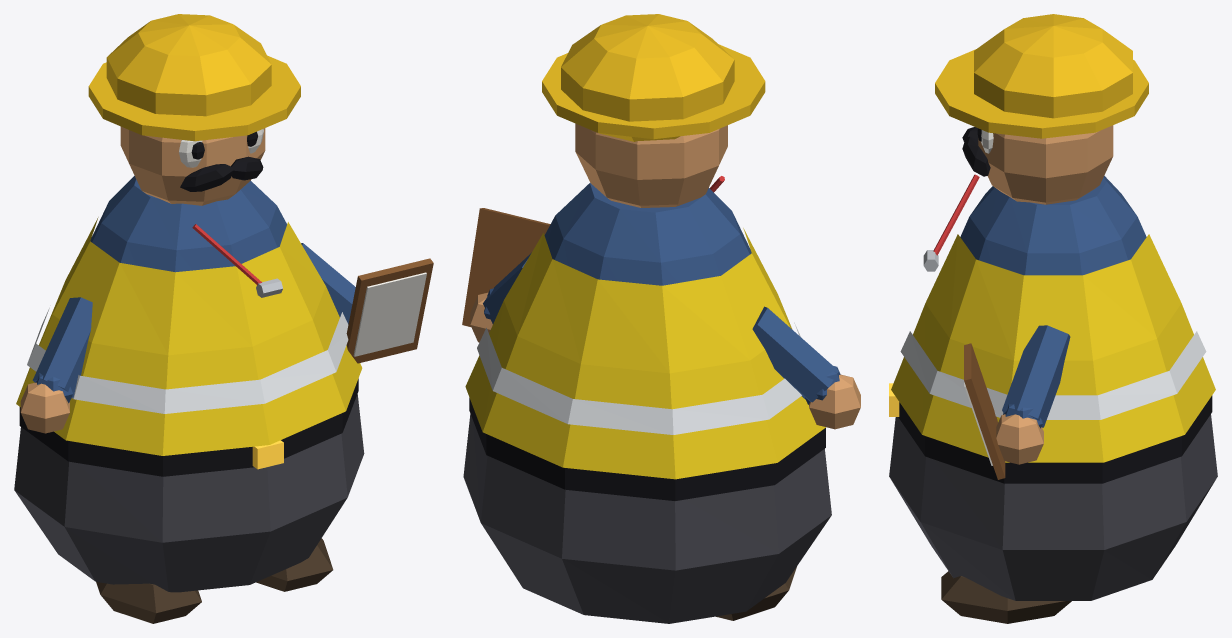
The model's file is npc_capataz.glb.
The picture shows the model from 3 angles, left to right: view 1: azimuth 30°, elevation 25°; view 2: azimuth 150°, elevation 25°; view 3: azimuth 270°, elevation 25°; orthographic projection. The views are drawn at different scales.
Parts seen in each view (by area): view 1: body_safety_vest, body_work_pants, cap_hard_hat, body_work_shirt, body_vest_stripe, body_black, head_skin_arena, arms_work_shirt, legs_work_boots, props_white, props_clipboard, arms_skin_arena (+3 smaller); view 2: body_safety_vest, body_work_pants, cap_hard_hat, body_work_shirt, head_skin_arena, body_vest_stripe, body_black, arms_work_shirt, props_clipboard, arms_skin_arena, legs_work_boots; view 3: body_safety_vest, body_work_pants, cap_hard_hat, body_work_shirt, head_skin_arena, body_vest_stripe, body_black, arms_work_shirt, legs_work_boots, props_clipboard, arms_skin_arena, face_black (+1 smaller).
Boxes of the visible parts, box(x1,y1,x2,y2) form: body_safety_vest: box(16, 217, 362, 455); body_work_pants: box(14, 394, 364, 592); cap_hard_hat: box(88, 14, 300, 141); body_work_shirt: box(90, 176, 286, 272); body_vest_stripe: box(27, 308, 348, 413); body_black: box(19, 378, 358, 476); head_skin_arena: box(120, 126, 265, 205); arms_work_shirt: box(32, 243, 355, 403); legs_work_boots: box(96, 538, 333, 623); props_white: box(353, 272, 426, 356); props_clipboard: box(346, 258, 433, 363); arms_skin_arena: box(20, 382, 69, 433); body_safety_vest: box(465, 228, 825, 479); body_work_pants: box(463, 414, 831, 623); cap_hard_hat: box(542, 14, 765, 141); body_work_shirt: box(544, 183, 751, 285); head_skin_arena: box(575, 123, 727, 207); body_vest_stripe: box(477, 322, 801, 434); body_black: box(469, 398, 825, 500); arms_work_shirt: box(483, 252, 840, 404); props_clipboard: box(462, 208, 550, 326); arms_skin_arena: box(470, 292, 860, 429); legs_work_boots: box(716, 567, 796, 620); body_safety_vest: box(891, 234, 1215, 462); body_work_pants: box(889, 414, 1217, 600); cap_hard_hat: box(935, 14, 1148, 138); body_work_shirt: box(960, 176, 1146, 275); head_skin_arena: box(978, 125, 1113, 204); body_vest_stripe: box(900, 331, 1206, 419); body_black: box(898, 395, 1212, 483); arms_work_shirt: box(1002, 325, 1070, 428); legs_work_boots: box(941, 571, 1071, 623); props_clipboard: box(964, 343, 1005, 479); arms_skin_arena: box(996, 414, 1043, 464); face_black: box(962, 127, 990, 176).
Size of the model in its own units: 1.18 by 1.61 by 0.86.
